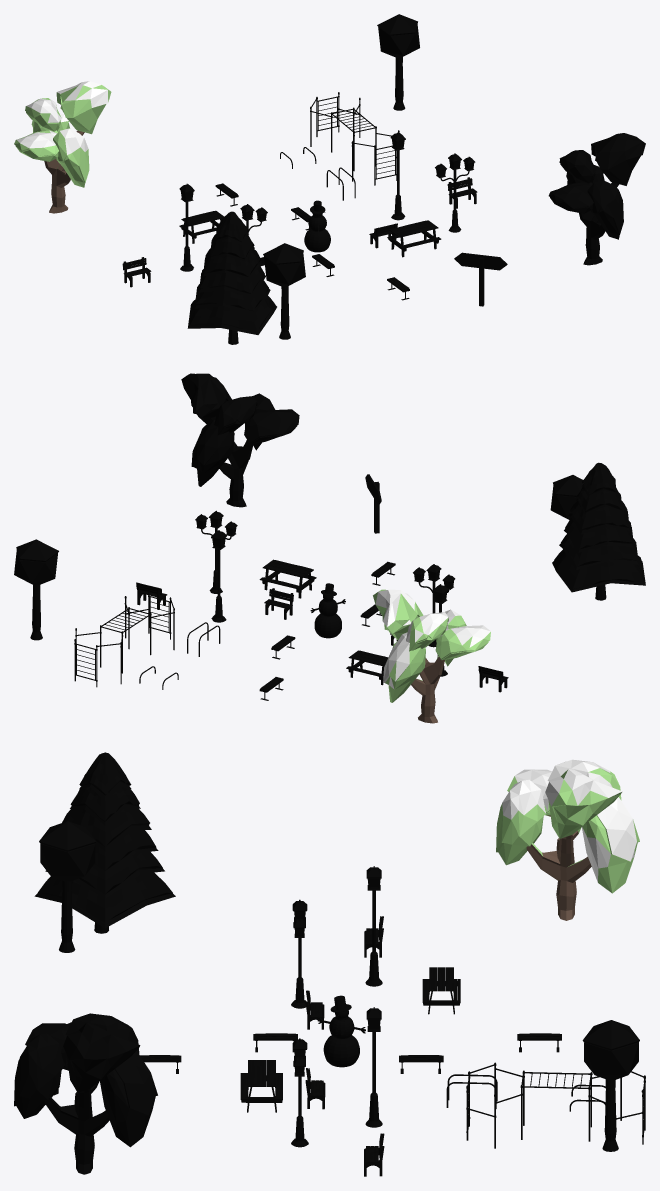
Rendered from sets.fbx.
3 views of the same model, one above another, from view 1: azimuth 30°, elevation 25°; view 2: azimuth 150°, elevation 25°; view 3: azimuth 270°, elevation 25° (orthographic). The views are drawn at different scales.
Visible parts, largest first — view 1: FirTree; view 2: FirTree; view 3: FirTree.
Part boxes in pixels (<box>): FirTree: <box>14,14,645,344</box>; FirTree: <box>14,373,645,723</box>; FirTree: <box>14,752,645,1176</box>.
Bounding box in the file's own units: 2886 × 861 × 2512.
